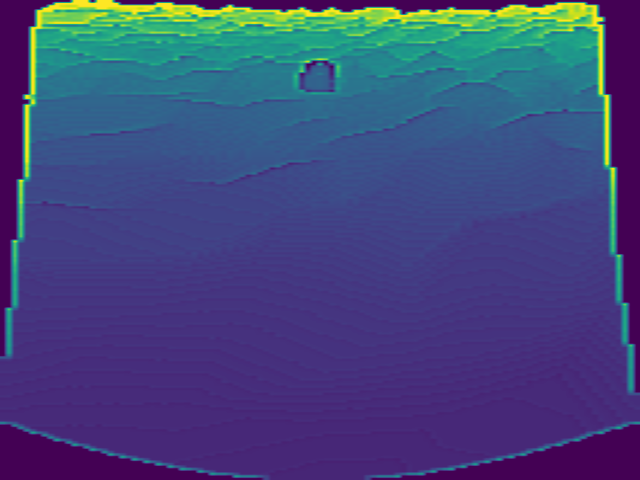car_0198: (297, 60, 339, 93)
